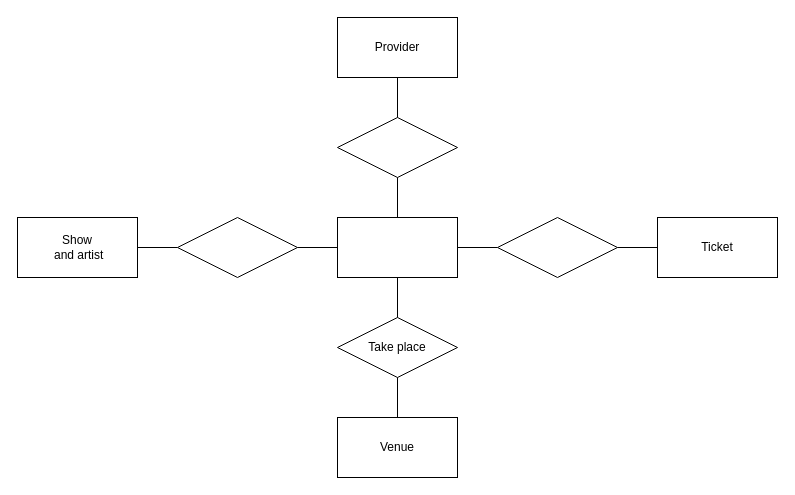
This 795x495 diagram has some shape labels left out. The shapes that lost their labels are listed below. From the top down, each one's box as (x1, y1, x2, y2) in pixels, then its label:
(336, 116, 458, 178): Service
(336, 216, 458, 278): Event
(496, 216, 618, 278): Sell
